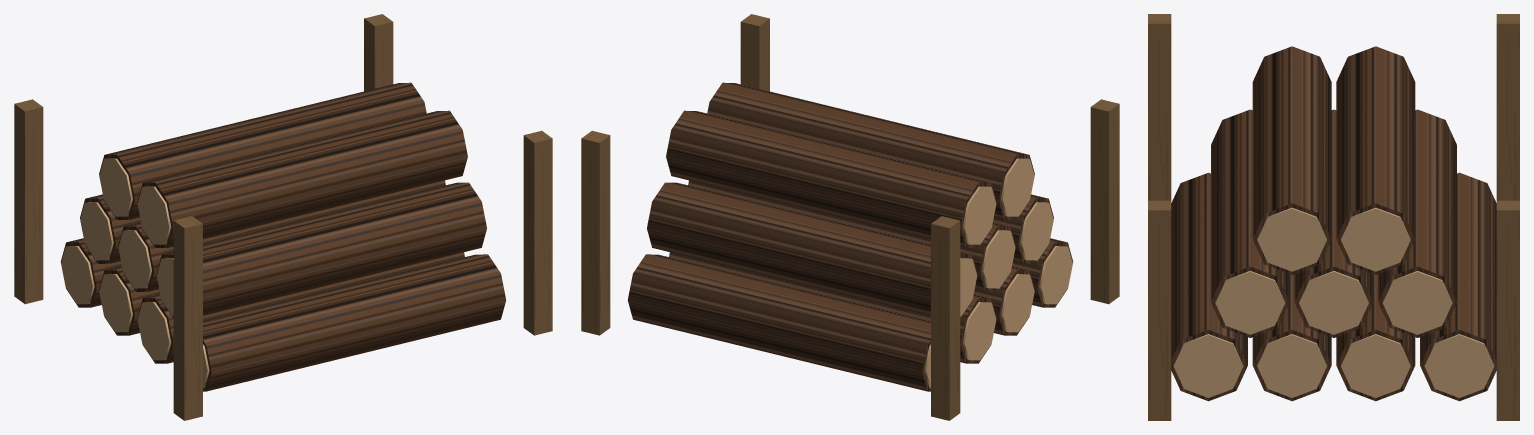
The model's file is logs.glb.
The picture shows the model from 3 angles, left to right: view 1: azimuth 30°, elevation 25°; view 2: azimuth 150°, elevation 25°; view 3: azimuth 270°, elevation 25°; orthographic projection. The views are drawn at different scales.
Parts seen in each view (by area): view 1: logs; view 2: logs; view 3: logs.
Part boxes in pixels (x1=…): logs: x1=14, y1=14, x2=552, y2=420; logs: x1=581, y1=14, x2=1119, y2=420; logs: x1=1148, y1=14, x2=1519, y2=420.
Size of the model in its own units: 2 by 1 by 1.6.
Materials: 3 (2 with a texture image).
